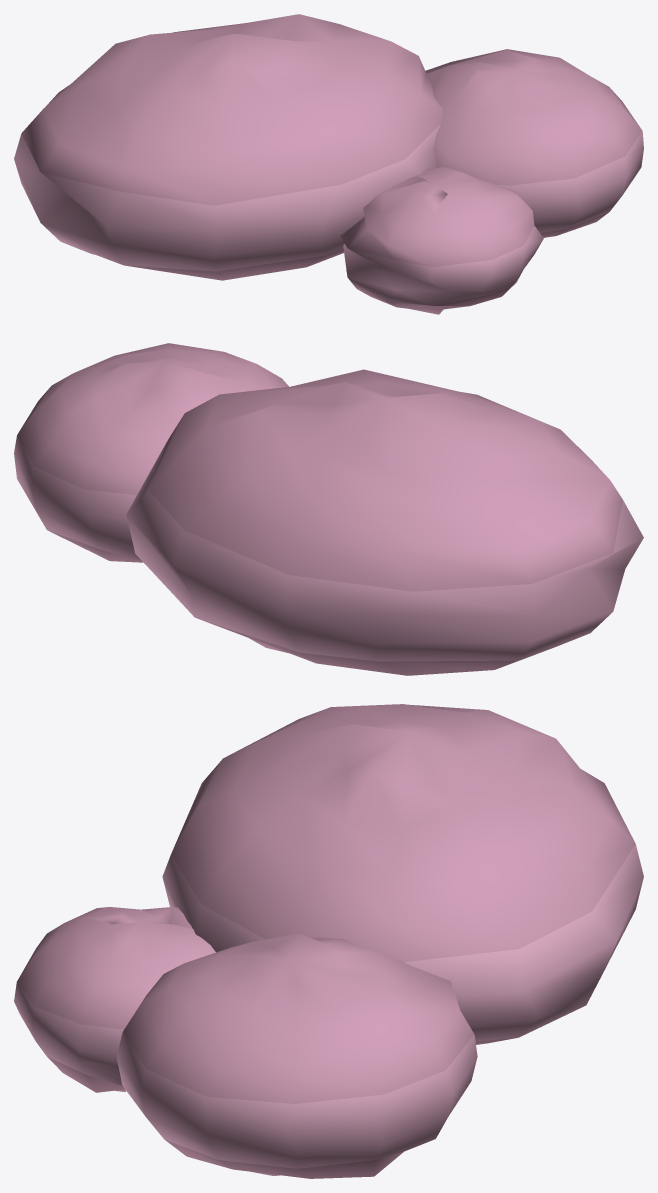
The model's file is bush-86_col.fbx.
3 renders of one model, top to bottom at view 1: azimuth 30°, elevation 25°; view 2: azimuth 150°, elevation 25°; view 3: azimuth 270°, elevation 25°, orthographic. The views are drawn at different scales.
Parts seen in each view (by area): view 1: bush-86.col; view 2: bush-86.col; view 3: bush-86.col.
Part boxes in pixels (left/top/right/bottom): bush-86.col: left=14, top=14, right=643, bottom=314; bush-86.col: left=14, top=343, right=643, bottom=675; bush-86.col: left=14, top=704, right=643, bottom=1178.
Bounding box in the file's own units: 0.4291 × 0.1661 × 0.3312.
Materials: 1 (1 with a texture image).
